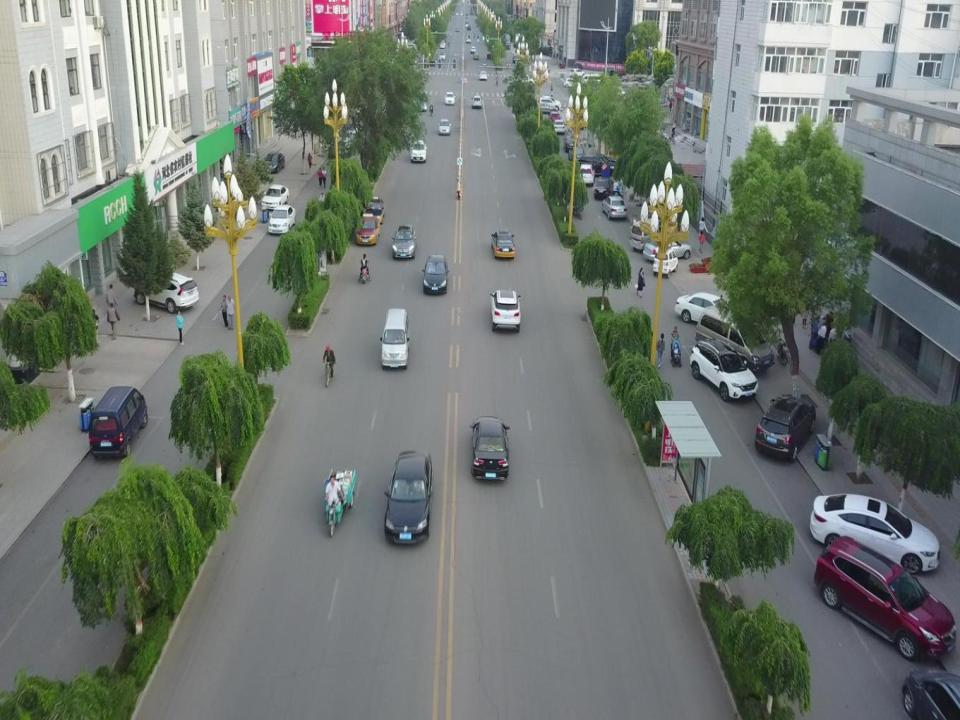car: (819, 536, 957, 660), (811, 486, 941, 574), (697, 303, 775, 375), (383, 445, 436, 545), (690, 338, 760, 399), (754, 387, 814, 457), (134, 268, 198, 312), (470, 419, 510, 485), (674, 288, 732, 329), (488, 286, 524, 330), (420, 254, 450, 293), (642, 237, 696, 258), (328, 125, 361, 155), (268, 200, 296, 234), (392, 221, 416, 260), (260, 185, 291, 214), (578, 150, 621, 170), (356, 211, 380, 244), (493, 231, 516, 260), (365, 193, 384, 227), (261, 151, 286, 173), (602, 196, 629, 216), (596, 175, 613, 201), (409, 137, 427, 161), (536, 95, 562, 110), (577, 162, 594, 184), (603, 82, 625, 97), (535, 101, 558, 113), (582, 74, 603, 86), (643, 77, 663, 89), (414, 94, 427, 111), (553, 116, 565, 134), (569, 148, 587, 160), (438, 118, 452, 133), (562, 78, 583, 88), (562, 137, 578, 150), (546, 110, 562, 121), (536, 62, 551, 73), (570, 66, 586, 75), (472, 94, 483, 107), (444, 90, 455, 103), (503, 39, 512, 49), (503, 33, 512, 43), (479, 70, 487, 79), (511, 55, 521, 62), (470, 45, 477, 52), (439, 40, 445, 48), (437, 53, 444, 58), (473, 53, 479, 58), (466, 25, 472, 30), (466, 37, 471, 42), (465, 21, 469, 26), (456, 28, 460, 33)
van: (85, 385, 150, 456), (379, 304, 412, 370), (631, 215, 673, 251), (652, 249, 681, 276)
